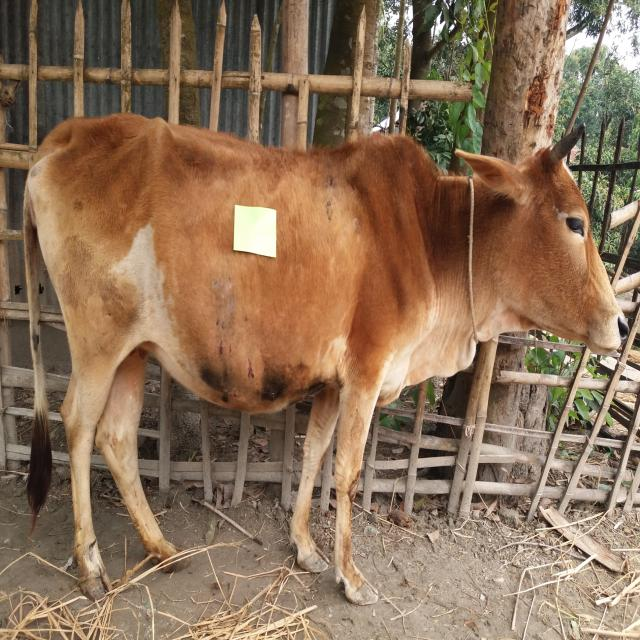badan_sapi: (38, 145, 380, 391)
sapi: (13, 113, 635, 612)
